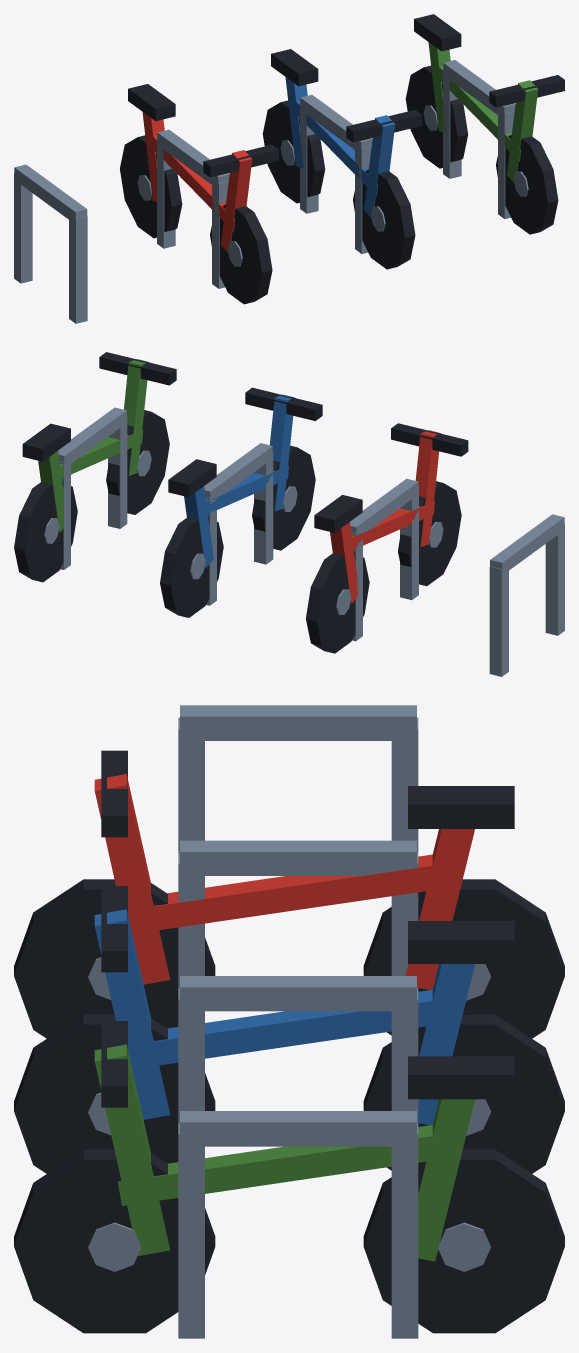
File: cittaBiciclette.glb
3 renders of one model, top to bottom at view 1: azimuth 30°, elevation 25°; view 2: azimuth 150°, elevation 25°; view 3: azimuth 270°, elevation 25°, orthographic. The views are drawn at different scales.
Visible parts, largest first — view 1: cittaBiciclette_black, cittaBiciclette_steel, cittaBiciclette_blue, cittaBiciclette_green, cittaBiciclette_red; view 2: cittaBiciclette_black, cittaBiciclette_steel, cittaBiciclette_blue, cittaBiciclette_red, cittaBiciclette_green; view 3: cittaBiciclette_black, cittaBiciclette_steel, cittaBiciclette_green, cittaBiciclette_red, cittaBiciclette_blue.
Part boxes in pixels (x1,y1,x2,y2): cittaBiciclette_black: (120, 14, 564, 304); cittaBiciclette_steel: (14, 60, 528, 323); cittaBiciclette_blue: (285, 77, 395, 218); cittaBiciclette_green: (428, 42, 538, 182); cittaBiciclette_red: (142, 112, 252, 252); cittaBiciclette_black: (14, 352, 468, 653); cittaBiciclette_steel: (44, 407, 564, 676); cittaBiciclette_blue: (184, 394, 294, 568); cittaBiciclette_red: (330, 430, 440, 603); cittaBiciclette_green: (38, 359, 148, 532); cittaBiciclette_black: (14, 750, 564, 1333); cittaBiciclette_steel: (88, 705, 490, 1338); cittaBiciclette_green: (94, 1044, 474, 1261); cittaBiciclette_red: (94, 774, 474, 989); cittaBiciclette_blue: (94, 909, 474, 1125).
Size of the model in its own units: 3.55 by 1.05 by 1.86.
